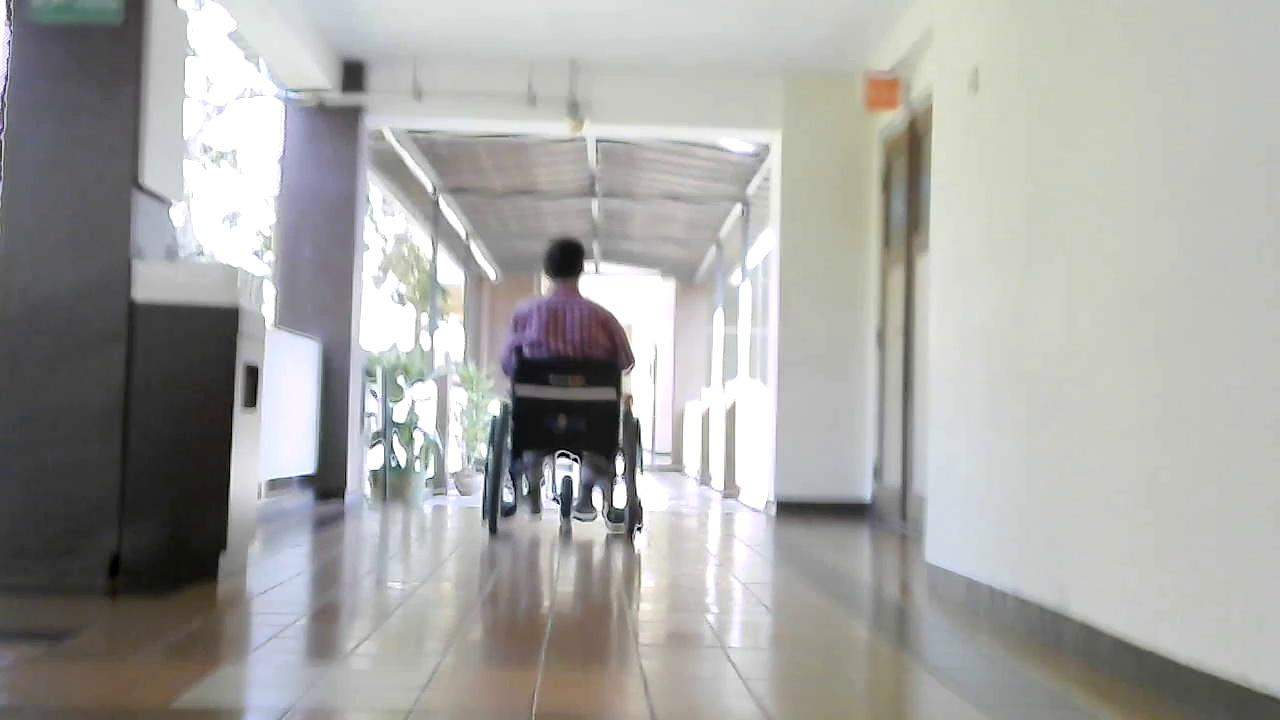person: (498, 238, 637, 532)
wheelchair: (467, 343, 665, 555)
